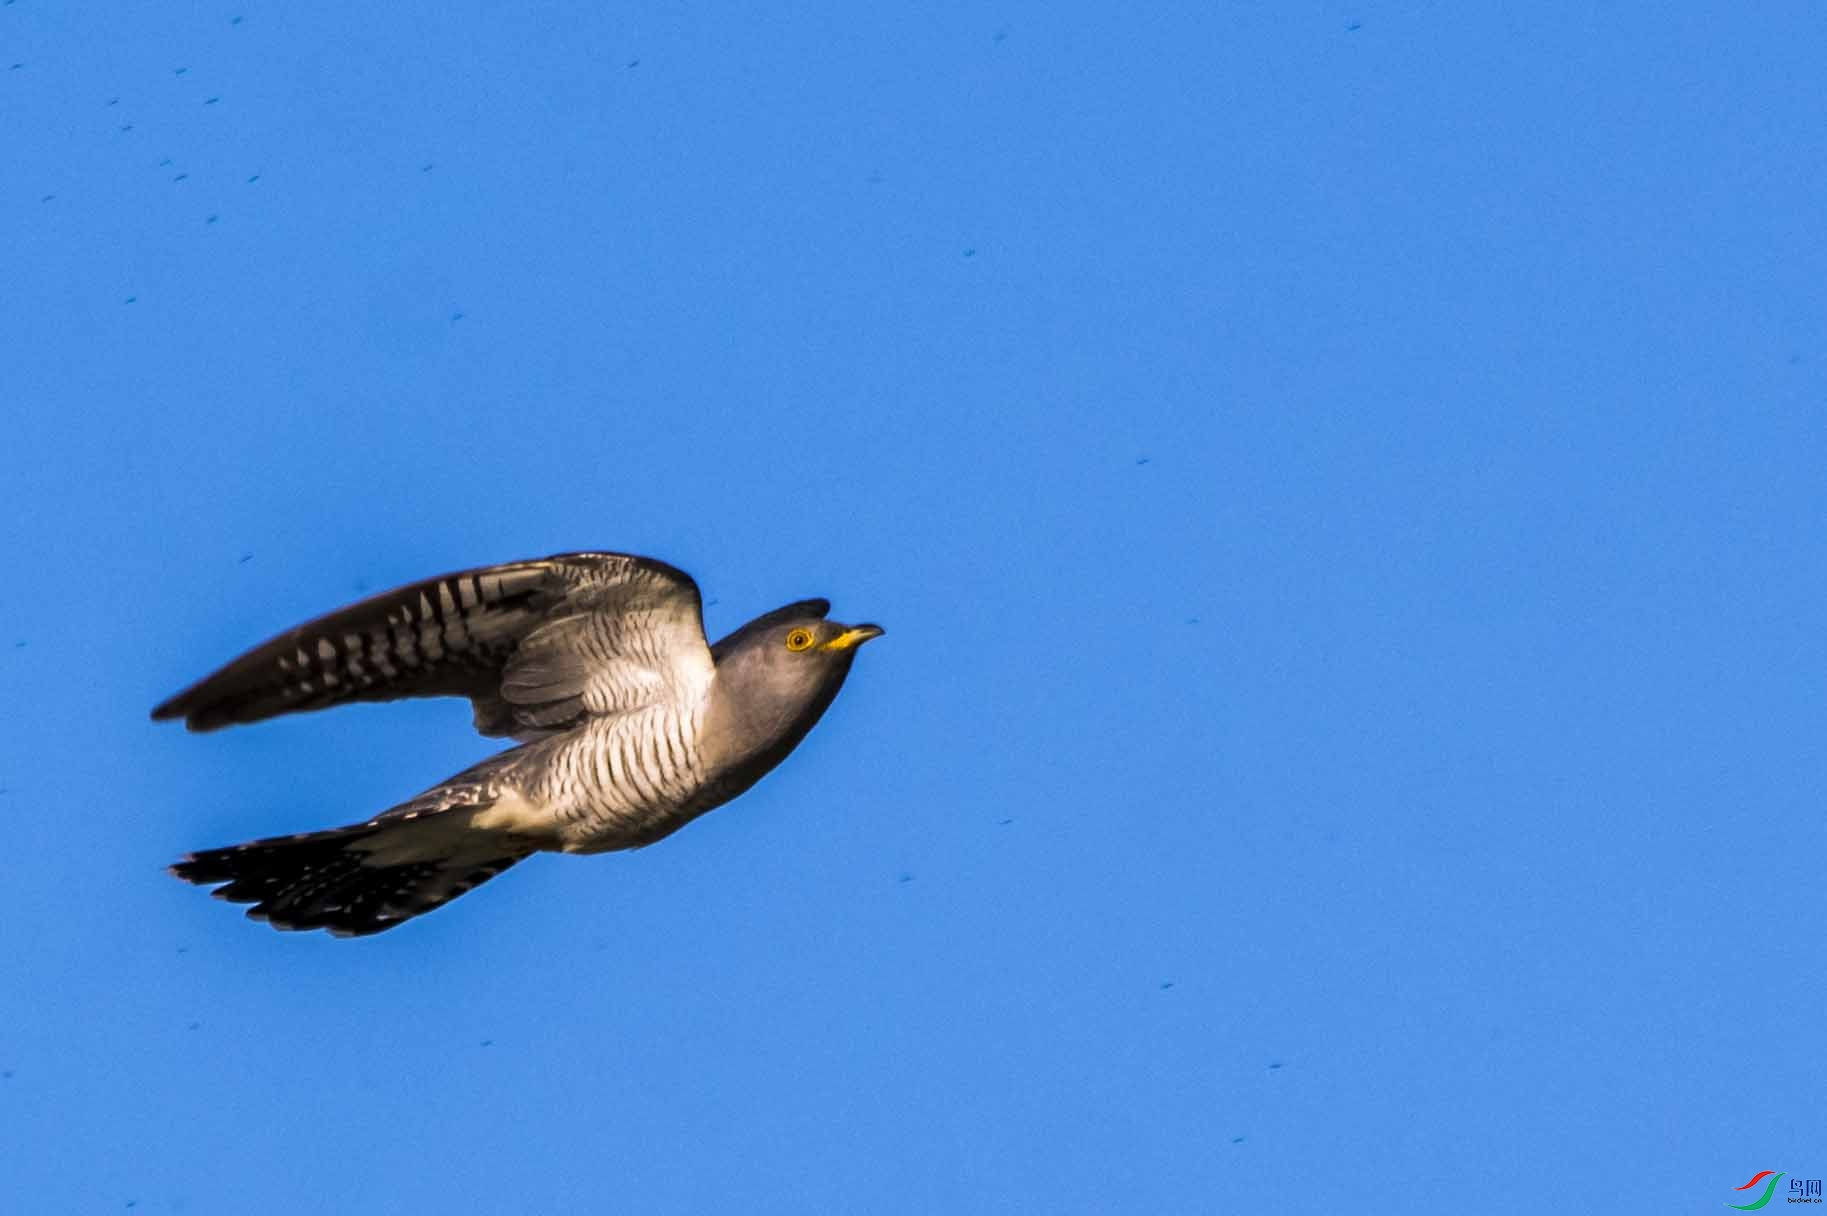bird: (125, 544, 886, 957)
